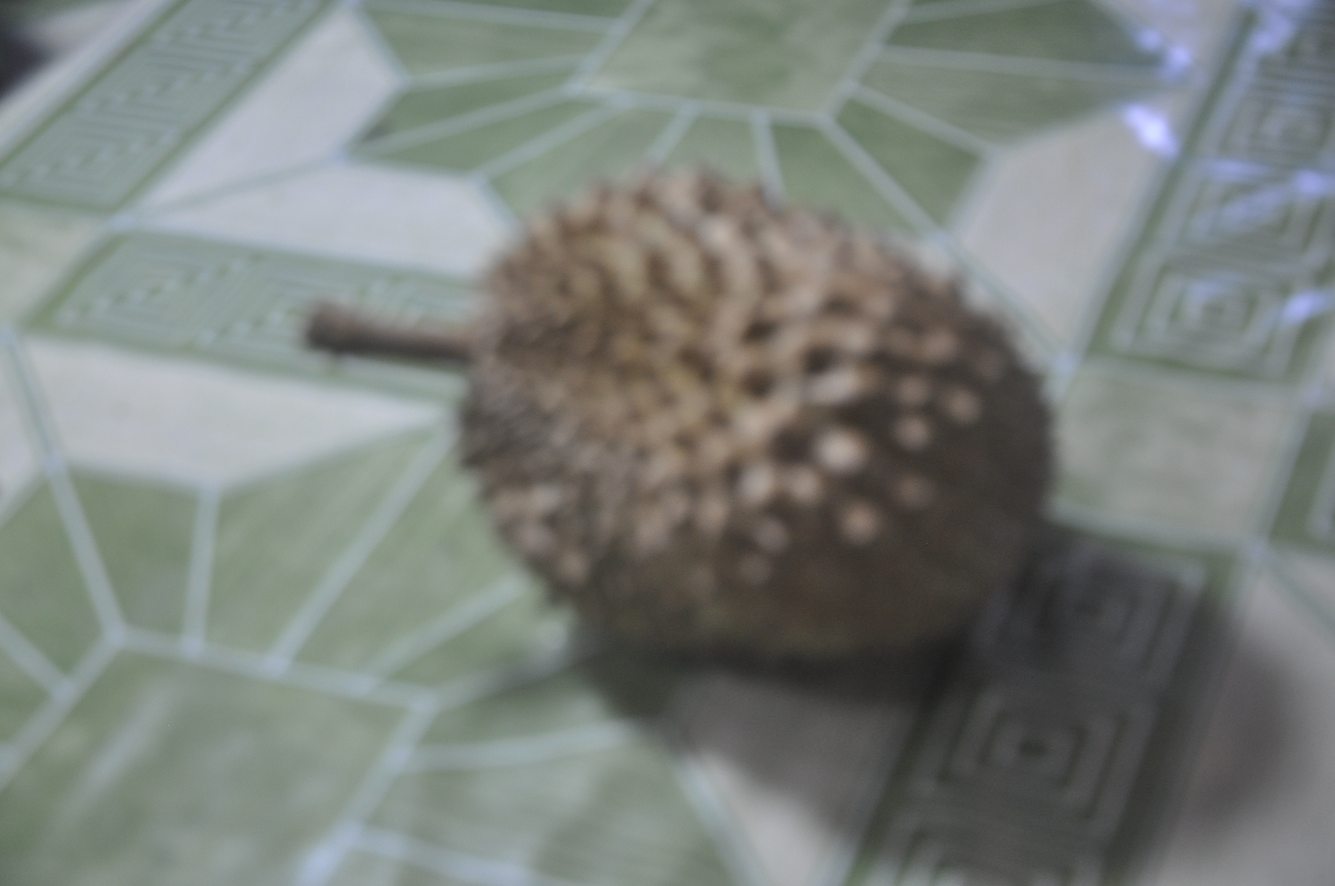mature: (308, 171, 1052, 659)
